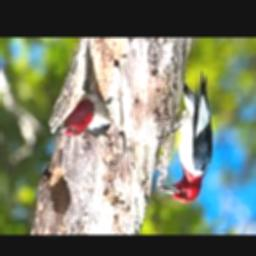Woodpecker: (158, 71, 213, 201), (56, 66, 111, 139)
